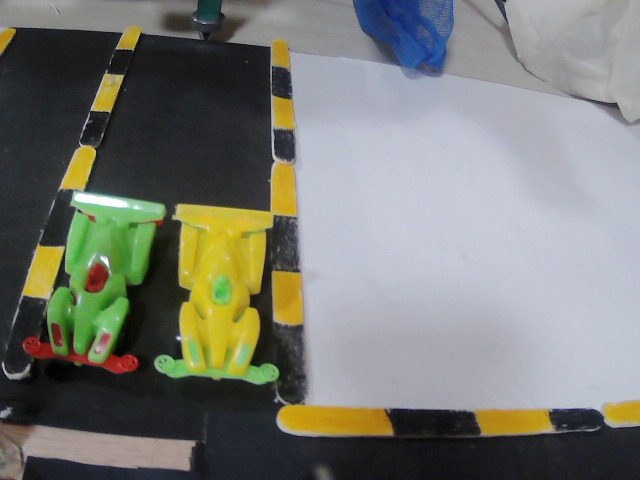car: (14, 185, 168, 385), (174, 196, 275, 374)
